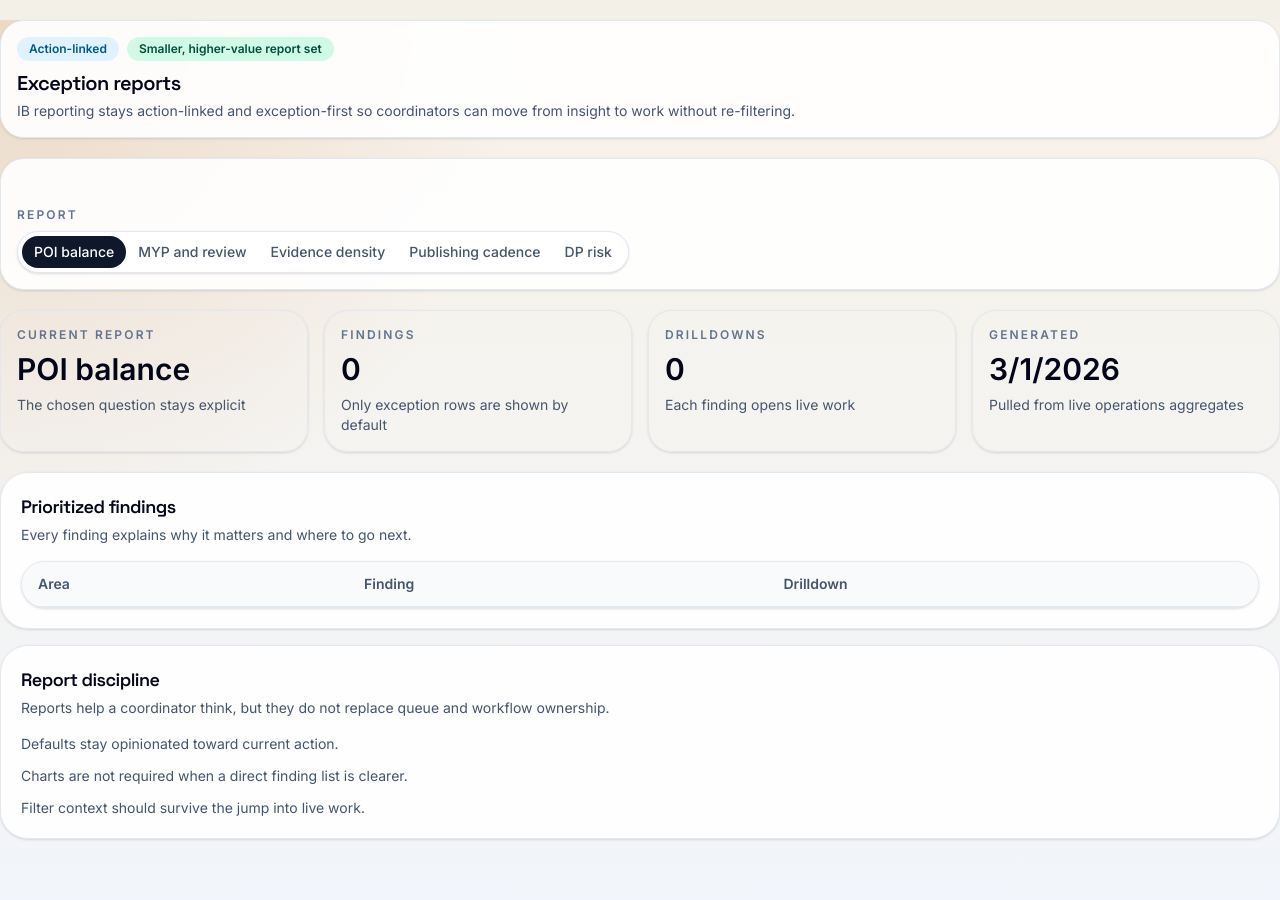
Scenario: ExceptionReportShell › switches report focus and keeps drilldown links visible
Step 1. Click the button "DP risk" → [588, 252], box x1=552 y1=236 x2=624 y2=268
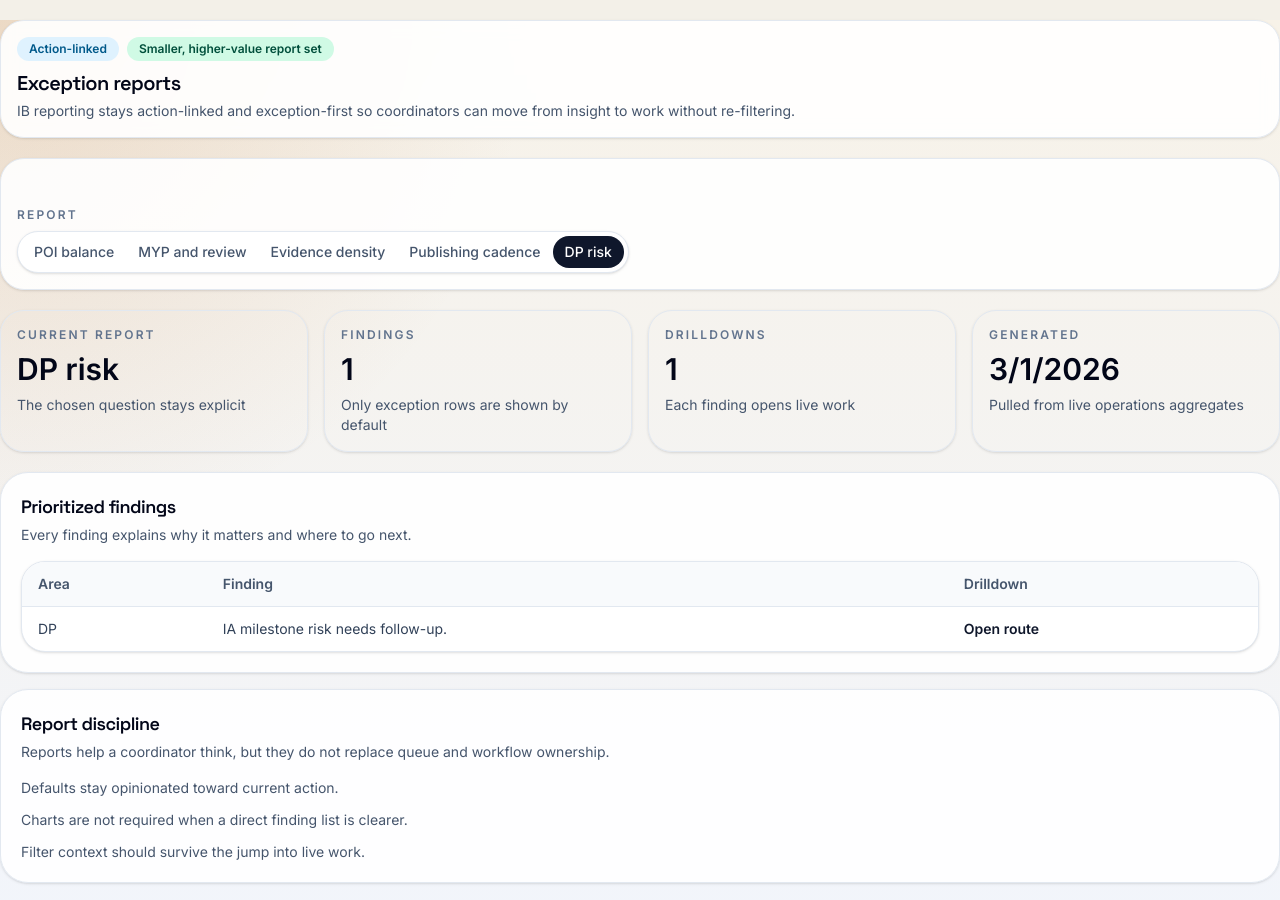
Expected: the text "IA milestone risk needs follow-up." is shown, x1=207 y1=606 x2=948 y2=651
